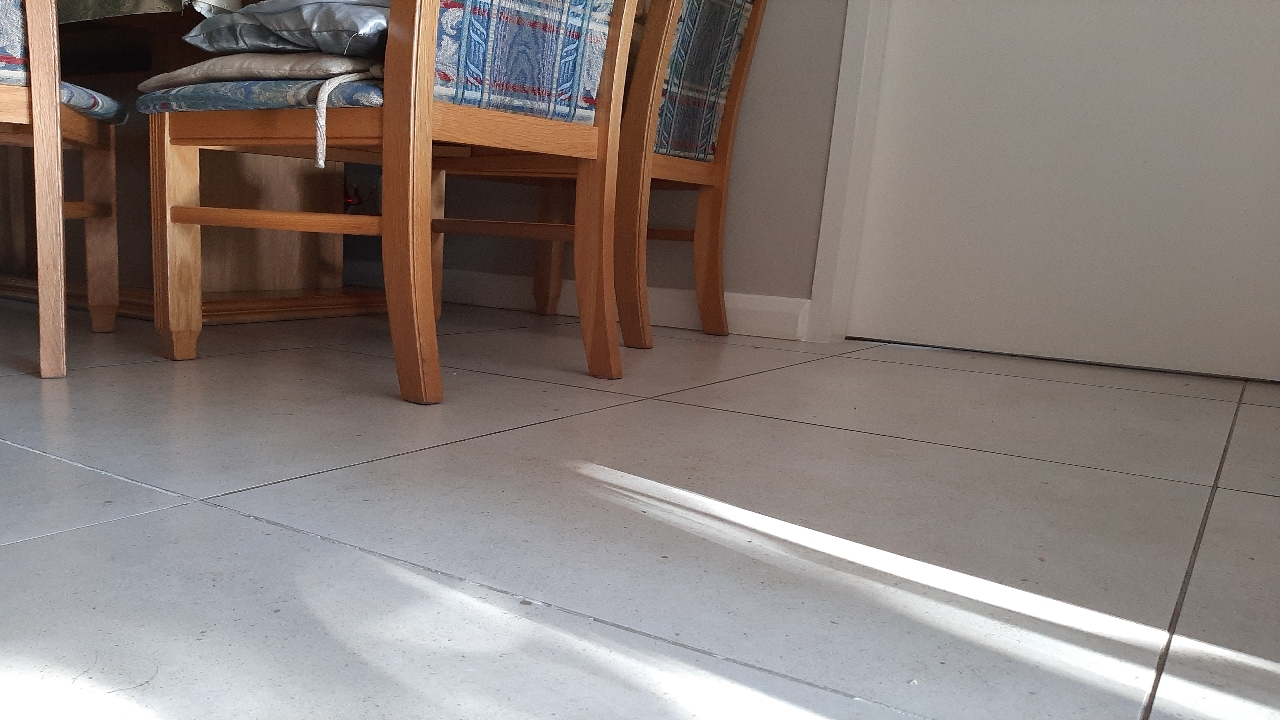chair: (383, 248, 750, 422), (20, 250, 227, 393)
